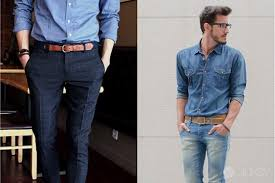C_jeans: (178, 121, 229, 183)
F_belt: (29, 38, 99, 55), (180, 112, 232, 127)
F_dress pants: (23, 51, 104, 182)
F_shirt: (173, 41, 248, 119)
